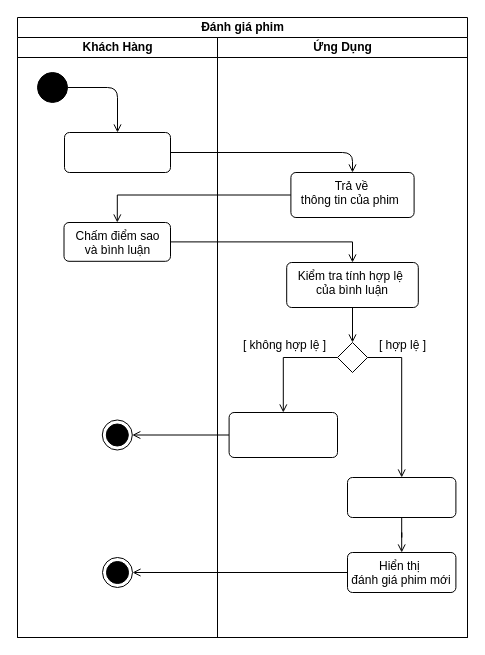
Some shapes in this 485 by 655 pixel diagram are drawn without their labels. The shapes that lost their labels are listed below. From the top down, each one's centre as x and y in pixels, then its label:
(117,152): Chọn phim muốn đánh giá
(283,435): Hiển thị Thông báo lỗi
(401,497): Thêm đánh giá vào CSDL
